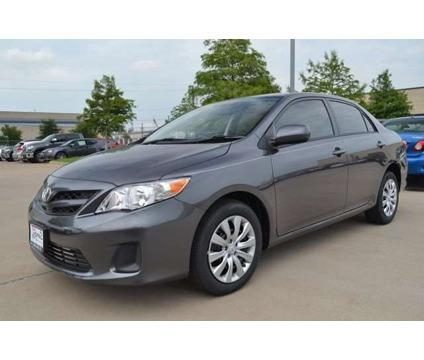Car: (11, 81, 415, 306), (34, 125, 112, 173)
